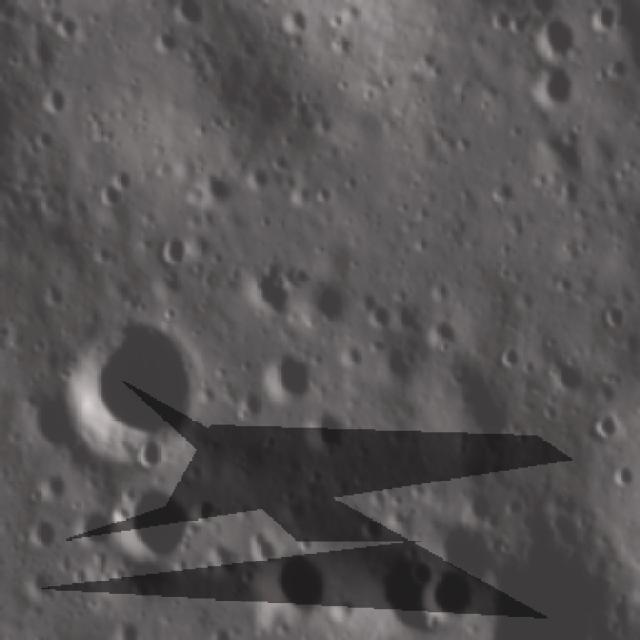crater: (57, 314, 198, 472), (118, 486, 202, 566), (403, 552, 479, 626), (270, 539, 324, 626), (235, 261, 292, 314), (302, 274, 346, 340), (264, 352, 313, 402), (528, 67, 578, 111), (530, 15, 579, 57), (93, 167, 138, 210), (78, 502, 113, 552), (359, 294, 396, 338), (422, 318, 460, 360), (310, 414, 352, 451), (24, 516, 65, 553), (158, 232, 194, 274), (594, 296, 628, 336), (587, 406, 619, 445), (495, 336, 528, 373), (145, 19, 177, 55), (608, 458, 638, 494), (39, 85, 67, 117)
